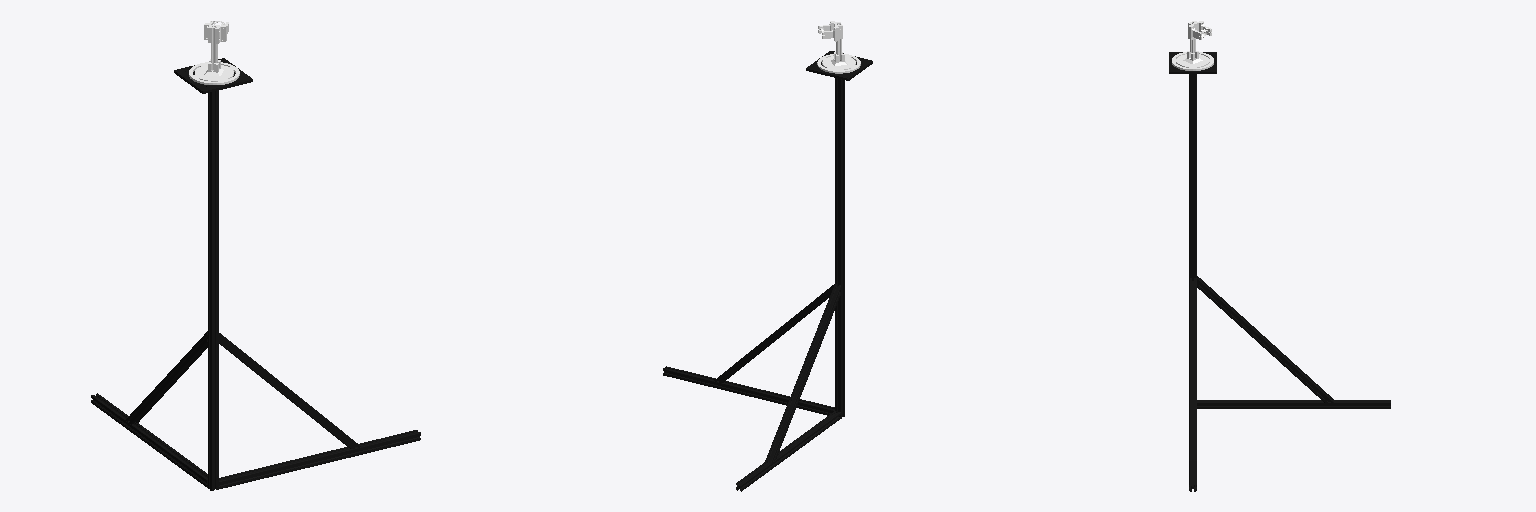
robot.urdf — icra_camera:
<?xml version="1.0" encoding="utf-8"?>
<!-- This URDF was automatically created by SolidWorks to URDF Exporter! Originally created by [author] ([email redacted]) 
     Commit Version: 1.6.0-4-g7f85cfe  Build Version: 1.6.7995.38578
     For more information, please see http://wiki.ros.org/sw_urdf_exporter -->
<robot
  name="icra_camera">
  <link
    name="base">
    <inertial>
      <origin
        xyz="0.075442 0.07509 0.64278"
        rpy="0 0 0" />
      <mass
        value="1.7647" />
      <inertia
        ixx="0.11956"
        ixy="7.4895E-08"
        ixz="0.0054762"
        iyy="0.11956"
        iyz="0.0054762"
        izz="0.038368" />
    </inertial>
    <visual>
      <origin
        xyz="0 0 0"
        rpy="0 0 0" />
      <geometry>
        <mesh
          filename="package://icra_camera/meshes/base.STL" />
      </geometry>
      <material
        name="">
        <color
          rgba="0.11765 0.11765 0.11765 1" />
      </material>
    </visual>
    <collision>
      <origin
        xyz="0 0 0"
        rpy="0 0 0" />
      <geometry>
        <mesh
          filename="package://icra_camera/meshes/base.STL" />
      </geometry>
    </collision>
  </link>
  <link
    name="camera_base">
    <inertial>
      <origin
        xyz="0.0050535 0.0050535 0.058376"
        rpy="0 0 0" />
      <mass
        value="0.34734" />
      <inertia
        ixx="0.00048142"
        ixy="1.3963E-06"
        ixz="-4.7259E-09"
        iyy="0.00048142"
        iyz="-4.7259E-09"
        izz="0.00071316" />
    </inertial>
    <visual>
      <origin
        xyz="0 0 0"
        rpy="0 0 0" />
      <geometry>
        <mesh
          filename="package://icra_camera/meshes/camera_base.STL" />
      </geometry>
      <material
        name="">
        <color
          rgba="1 1 1 1" />
      </material>
    </visual>
    <collision>
      <origin
        xyz="0 0 0"
        rpy="0 0 0" />
      <geometry>
        <mesh
          filename="package://icra_camera/meshes/camera_base.STL" />
      </geometry>
    </collision>
  </link>
  <joint
    name="joint_yaw"
    type="continuous">
    <origin
      xyz="-0.011775 -0.01575 1.568"
      rpy="0 0 0" />
    <parent
      link="base" />
    <child
      link="camera_base" />
    <axis
      xyz="0 0 1" />
  </joint>
  <link
    name="camera">
    <inertial>
      <origin
        xyz="0.0030444 0.00055813 -1.1425E-06"
        rpy="0 0 0" />
      <mass
        value="0.0054585" />
      <inertia
        ixx="2.4741E-06"
        ixy="-5.9674E-09"
        ixz="8.8181E-12"
        iyy="8.3749E-07"
        iyz="-2.3985E-11"
        izz="1.7897E-06" />
    </inertial>
    <visual>
      <origin
        xyz="0 0 0"
        rpy="0 0 0" />
      <geometry>
        <mesh
          filename="package://icra_camera/meshes/camera.STL" />
      </geometry>
      <material
        name="">
        <color
          rgba="1 1 1 1" />
      </material>
    </visual>
    <collision>
      <origin
        xyz="0 0 0"
        rpy="0 0 0" />
      <geometry>
        <mesh
          filename="package://icra_camera/meshes/camera.STL" />
      </geometry>
    </collision>
  </link>
  <joint
    name="pitch"
    type="continuous">
    <origin
      xyz="0.04308 0.041786 0.15335"
      rpy="0 0.48991 0.7854" />
    <parent
      link="camera_base" />
    <child
      link="camera" />
    <axis
      xyz="0 -1 0" />
  </joint>
</robot>

--- Render facts (derived) ---
Views: 3 orthographic renders of the robot side by side, from view 1: azimuth 30°, elevation 25°; view 2: azimuth 150°, elevation 25°; view 3: azimuth 270°, elevation 25°.
Model icra_camera with 3 links and 2 joints (2 continuous), rooted at base, posed every joint at zero.
Visible links, largest first — view 1: base, camera_base; view 2: base, camera_base; view 3: base, camera_base.
Boxes of the visible links, x1,y1,x2,y2 form: base: (91,58,420,490); camera_base: (189,21,239,84); base: (663,51,872,491); camera_base: (817,21,860,73); base: (1169,52,1390,491); camera_base: (1172,21,1213,70).
Bounding box of the posed robot: 0.9143 × 0.9158 × 1.75 m (x, y, z).
Meshes: 3 distinct files referenced, 3 mesh visuals loaded (3 binary STL).